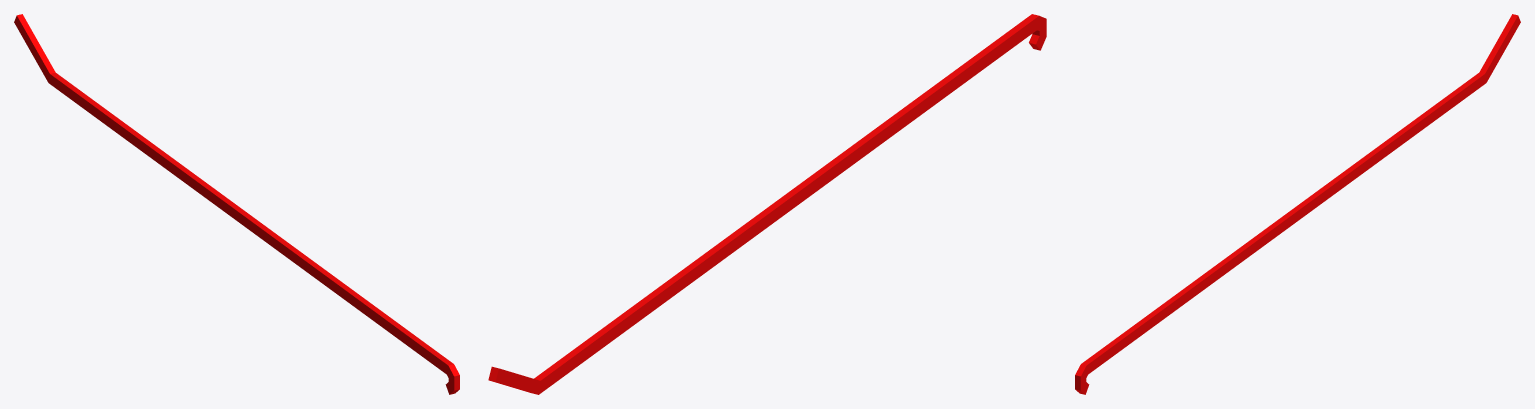
The model's file is original-68.obj.
The picture shows the model from 3 angles, left to right: view 1: azimuth 30°, elevation 25°; view 2: azimuth 150°, elevation 25°; view 3: azimuth 330°, elevation 25°; orthographic projection. The views are drawn at different scales.
Parts seen in each view (by area): view 1: mesh64/mesh64-geometry#mesh64-geometry; view 2: mesh64/mesh64-geometry#mesh64-geometry; view 3: mesh64/mesh64-geometry#mesh64-geometry.
Part boxes in pixels (box(x1,y1,x2,y2)): mesh64/mesh64-geometry#mesh64-geometry: box(14, 14, 459, 394); mesh64/mesh64-geometry#mesh64-geometry: box(488, 14, 1046, 394); mesh64/mesh64-geometry#mesh64-geometry: box(1075, 14, 1520, 394).
Size of the model in its own units: 0.00409 by 0.0426 by 0.5403.
